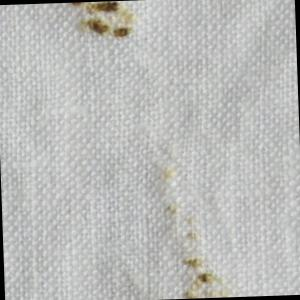Oil Stain: (153, 161, 236, 300), (66, 1, 141, 42)
Wrinkle: (212, 1, 299, 120)
